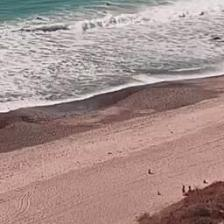surfer: (36, 17, 43, 20), (106, 3, 112, 6)
